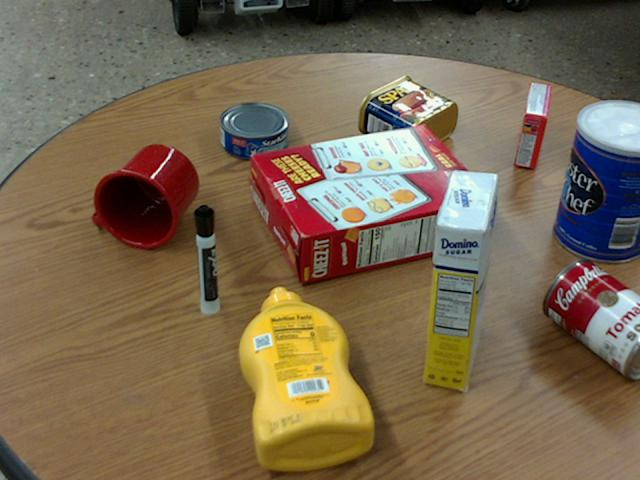cracker_box: (249, 124, 489, 284)
gelatin_box: (515, 82, 550, 168)
large_marker: (193, 203, 217, 313)
master_chef_can: (554, 101, 639, 263)
mug: (92, 143, 196, 248)
mustard_bottle: (238, 286, 374, 469)
potted_meat_can: (358, 75, 457, 153)
sugar_box: (423, 169, 498, 389)
tomato_soup_can: (543, 257, 639, 375)
tuna_fish_can: (219, 101, 288, 157)
